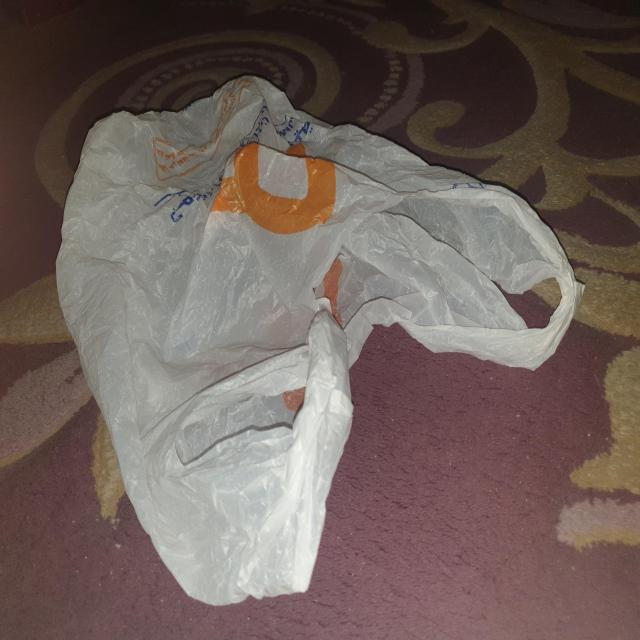plastic bag: (54, 75, 580, 606)
